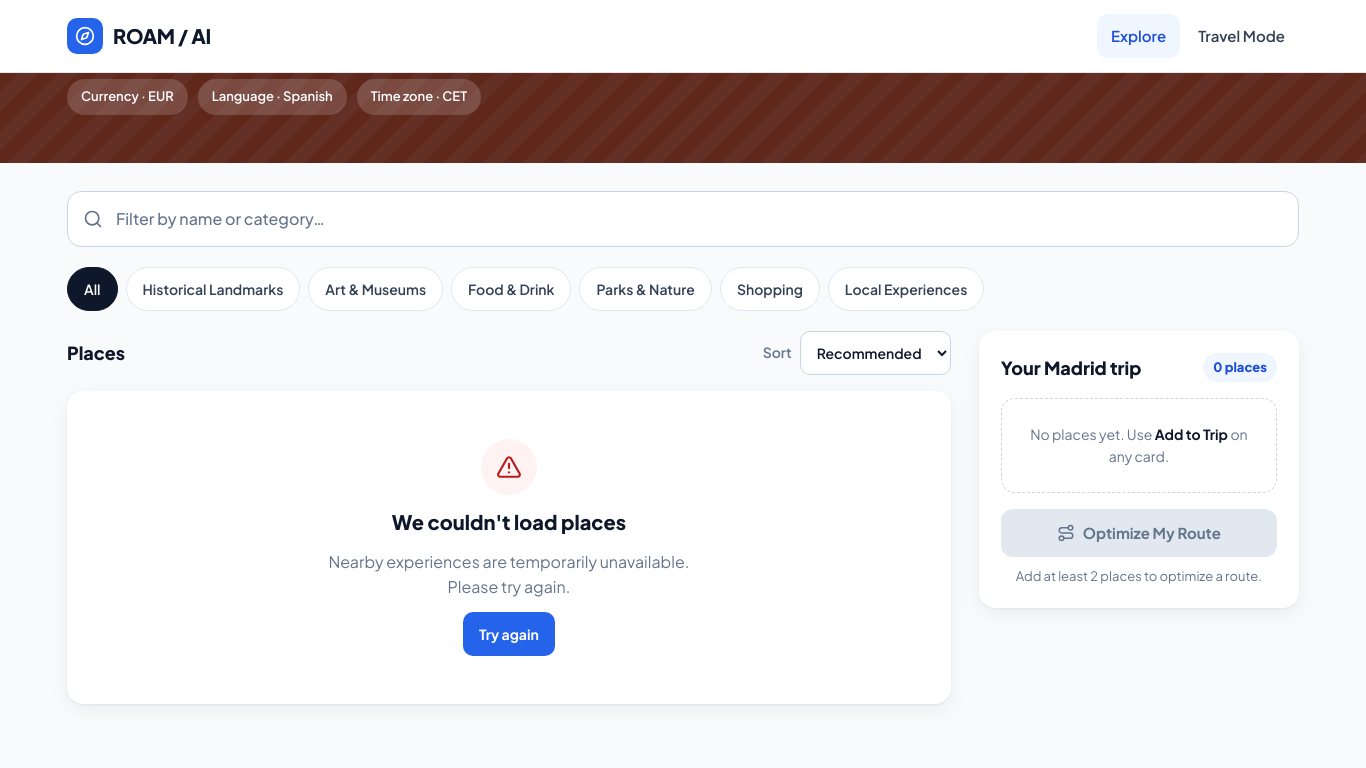
Test: ExplorePage › offers a retry when places fail to load
(page scrolled)
Expected: the message shows "We couldn't load places", left=392, top=508, right=626, bottom=534
Click the button "Try again" at (509,634), box left=463, top=612, right=555, bottom=656
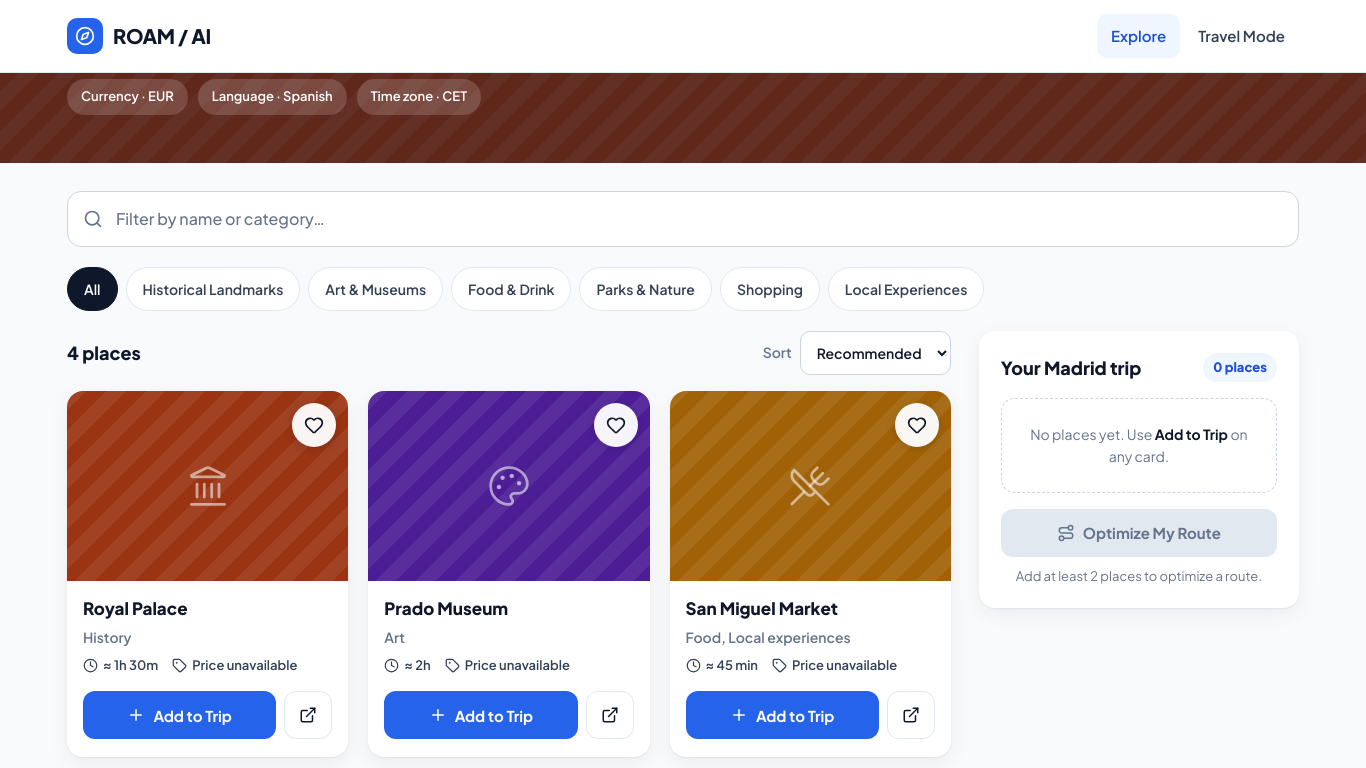
Now the link "Royal Palace" is shown, box left=83, top=596, right=188, bottom=618
